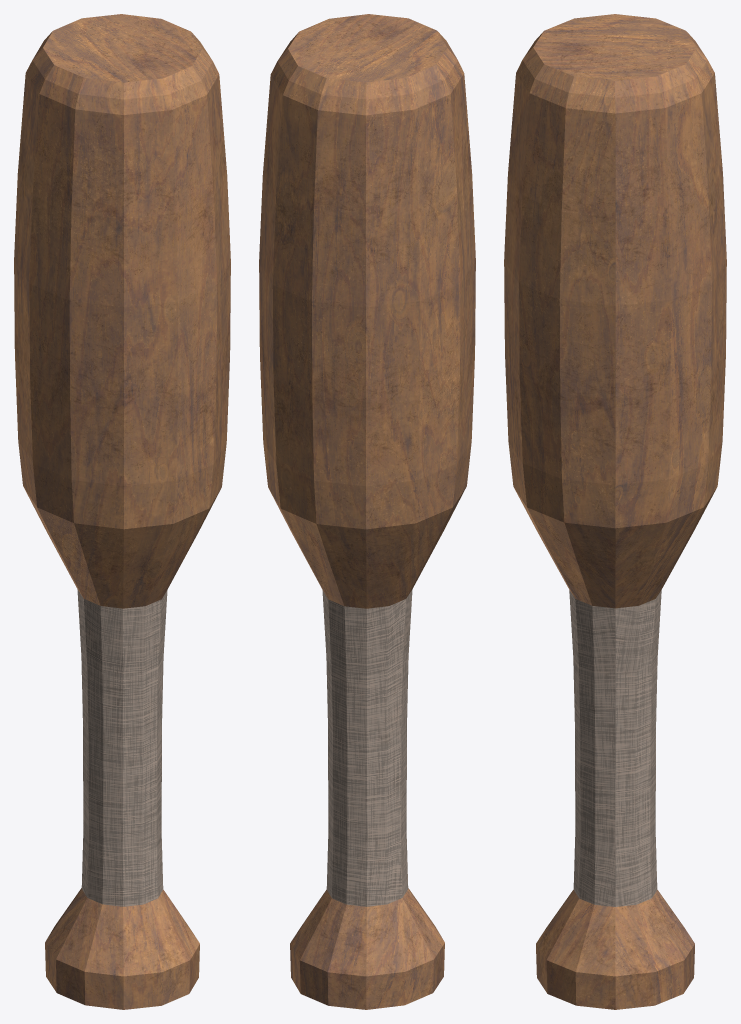
File: bat_geo_low.fbx
3 views of the same model, side by side, from view 1: azimuth 30°, elevation 25°; view 2: azimuth 150°, elevation 25°; view 3: azimuth 270°, elevation 25° (orthographic).
Parts seen in each view (by area): view 1: bat_geo; view 2: bat_geo; view 3: bat_geo.
Boxes of the visible parts, <box> form: bat_geo: <box>14,14,230,1009</box>; bat_geo: <box>259,14,475,1009</box>; bat_geo: <box>504,14,726,1009</box>.
Size of the model in its own units: 1.85 by 8.82 by 1.91.
